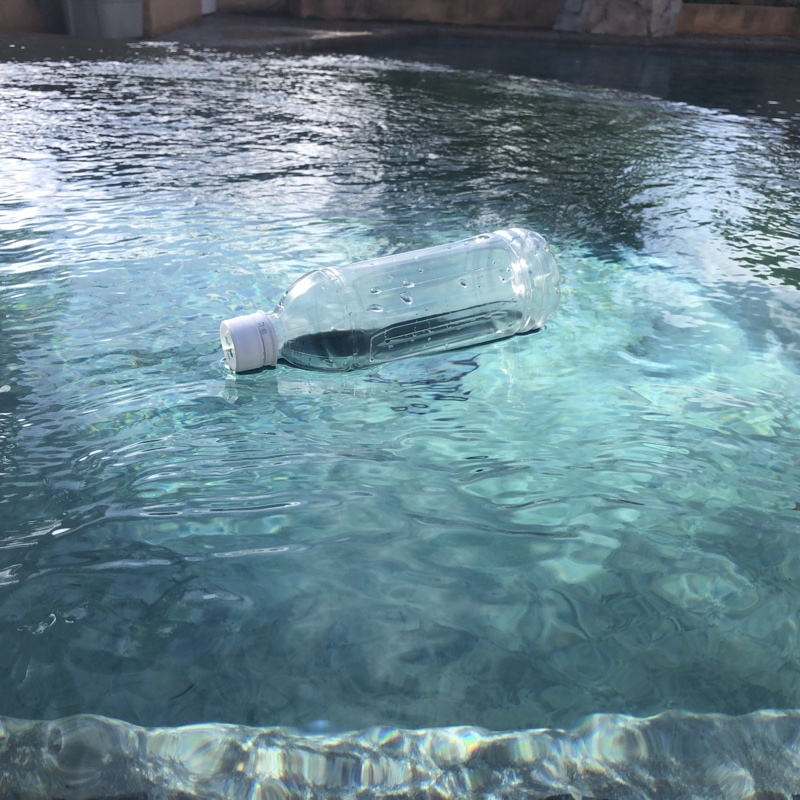Plastic Bottle: (217, 225, 565, 375)
